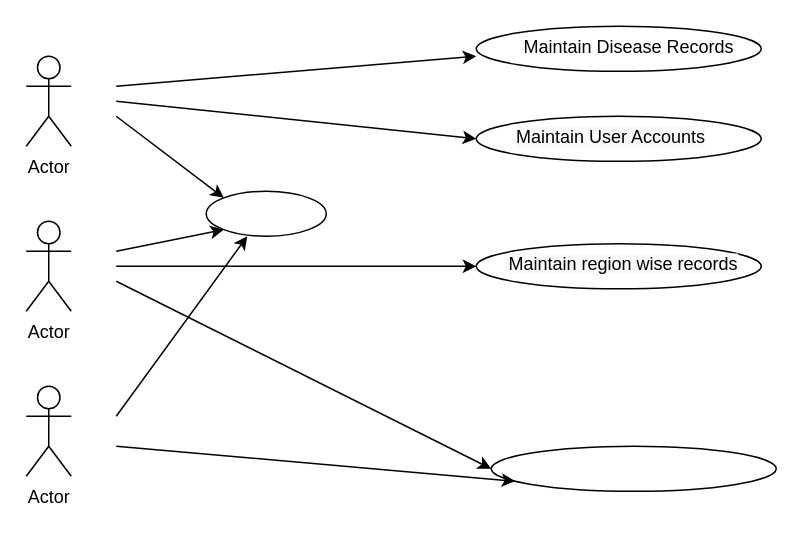
Some shapes in this 803 by 534 pixel diagram are drawn without their labels. The box of each missing label's shape, as (x1, y1, x2, y2) in pixels:
Login: (205, 190, 326, 236)
View Reports: (490, 445, 776, 491)
